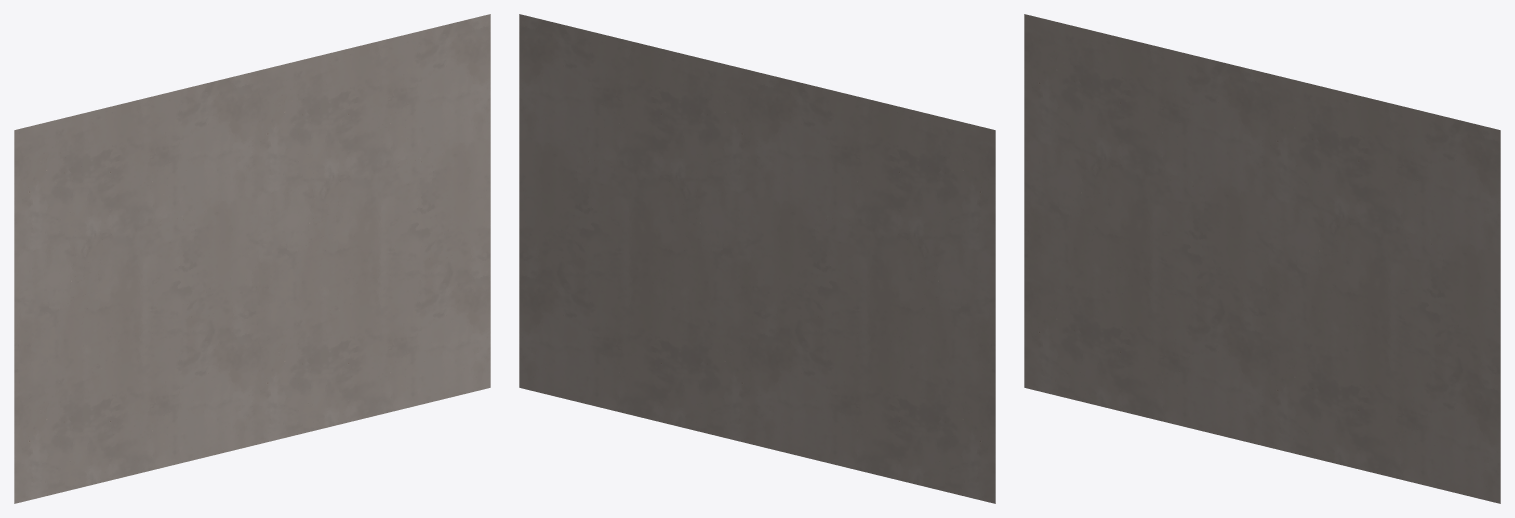
Rendered from SM_ENV_K1_WALL_STRAIGHT_4X3_01.fbx.
3 views of the same model, side by side, from view 1: azimuth 30°, elevation 25°; view 2: azimuth 150°, elevation 25°; view 3: azimuth 330°, elevation 25° (orthographic).
Visible parts, largest first — view 1: SM_ENV_K1_WALL_STRAIGHT_4X3_01; view 2: SM_ENV_K1_WALL_STRAIGHT_4X3_01; view 3: SM_ENV_K1_WALL_STRAIGHT_4X3_01.
Boxes of the visible parts, x1,y1,x2,y2 form: SM_ENV_K1_WALL_STRAIGHT_4X3_01: (14, 14, 490, 503); SM_ENV_K1_WALL_STRAIGHT_4X3_01: (519, 14, 995, 503); SM_ENV_K1_WALL_STRAIGHT_4X3_01: (1024, 14, 1500, 503).
Bounding box in the file's own units: 4 × 3 × 0.
